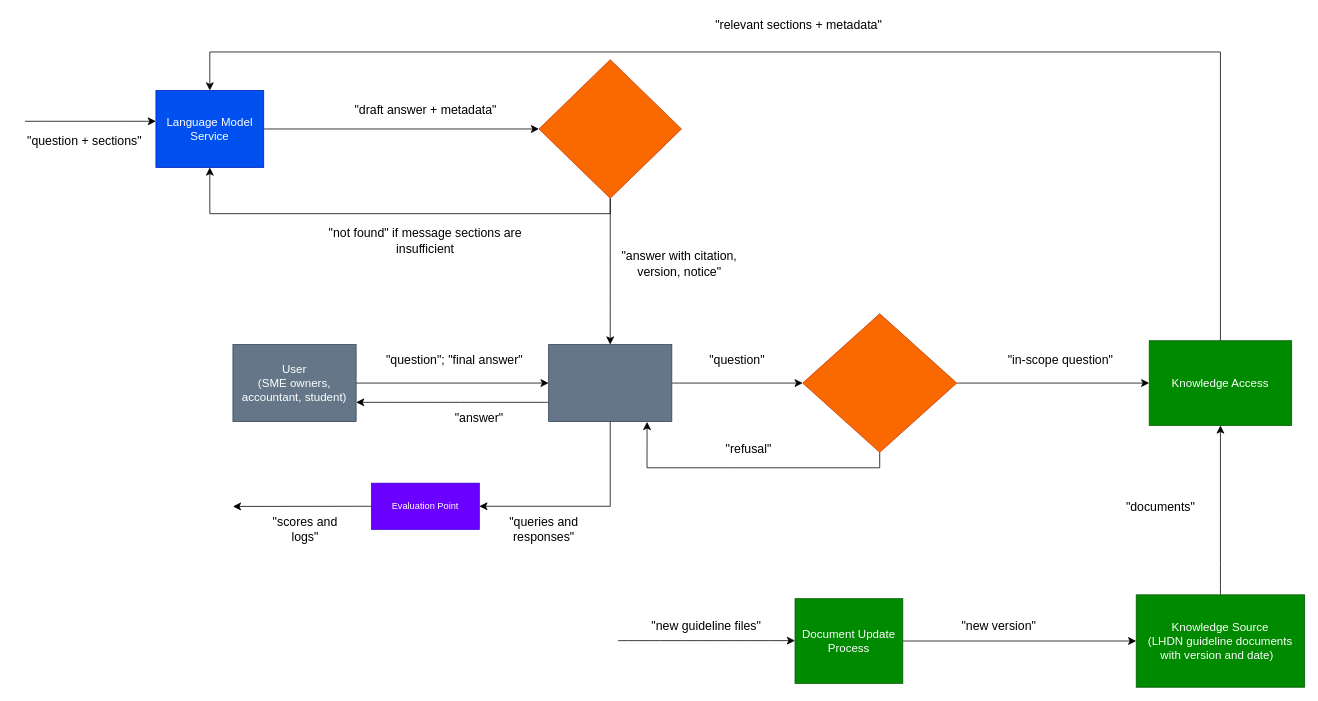
Some shapes in this 1318 by 701 pixel diagram are drawn without their labels. Here are the shapes that lost their labels. From the top down, the centre of each, then its label:
At (x=609, y=128): "Source Reference/ Version Labelling".
At (x=610, y=383): "Application Interface (chat)".
At (x=879, y=382): "Scope/ Safety Control (input check, identifier filter, information notice)".
